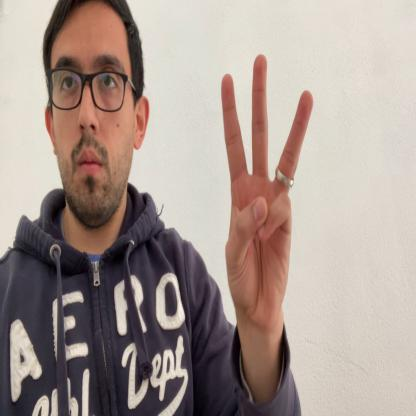W: (221, 50, 313, 333)
